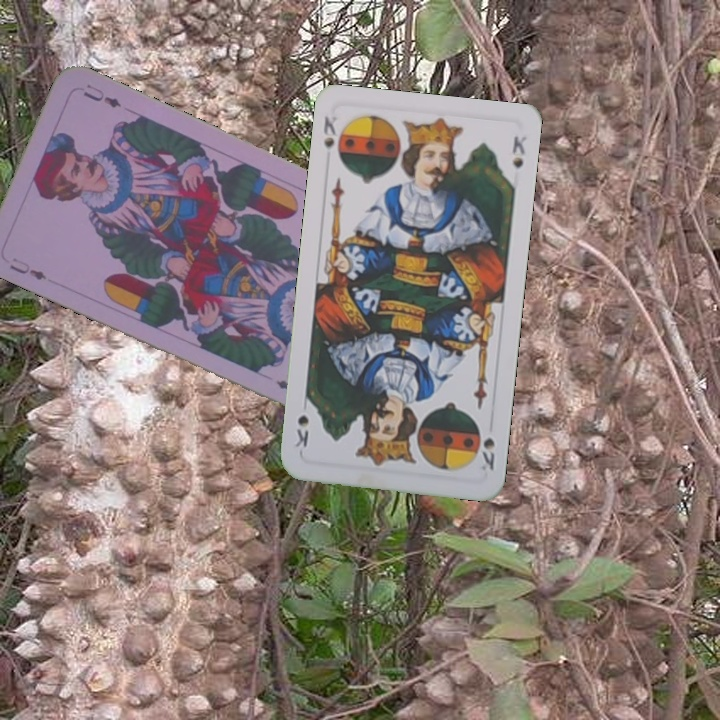EU: (5, 253, 50, 283)
SK: (477, 433, 498, 473), (319, 112, 340, 150)
